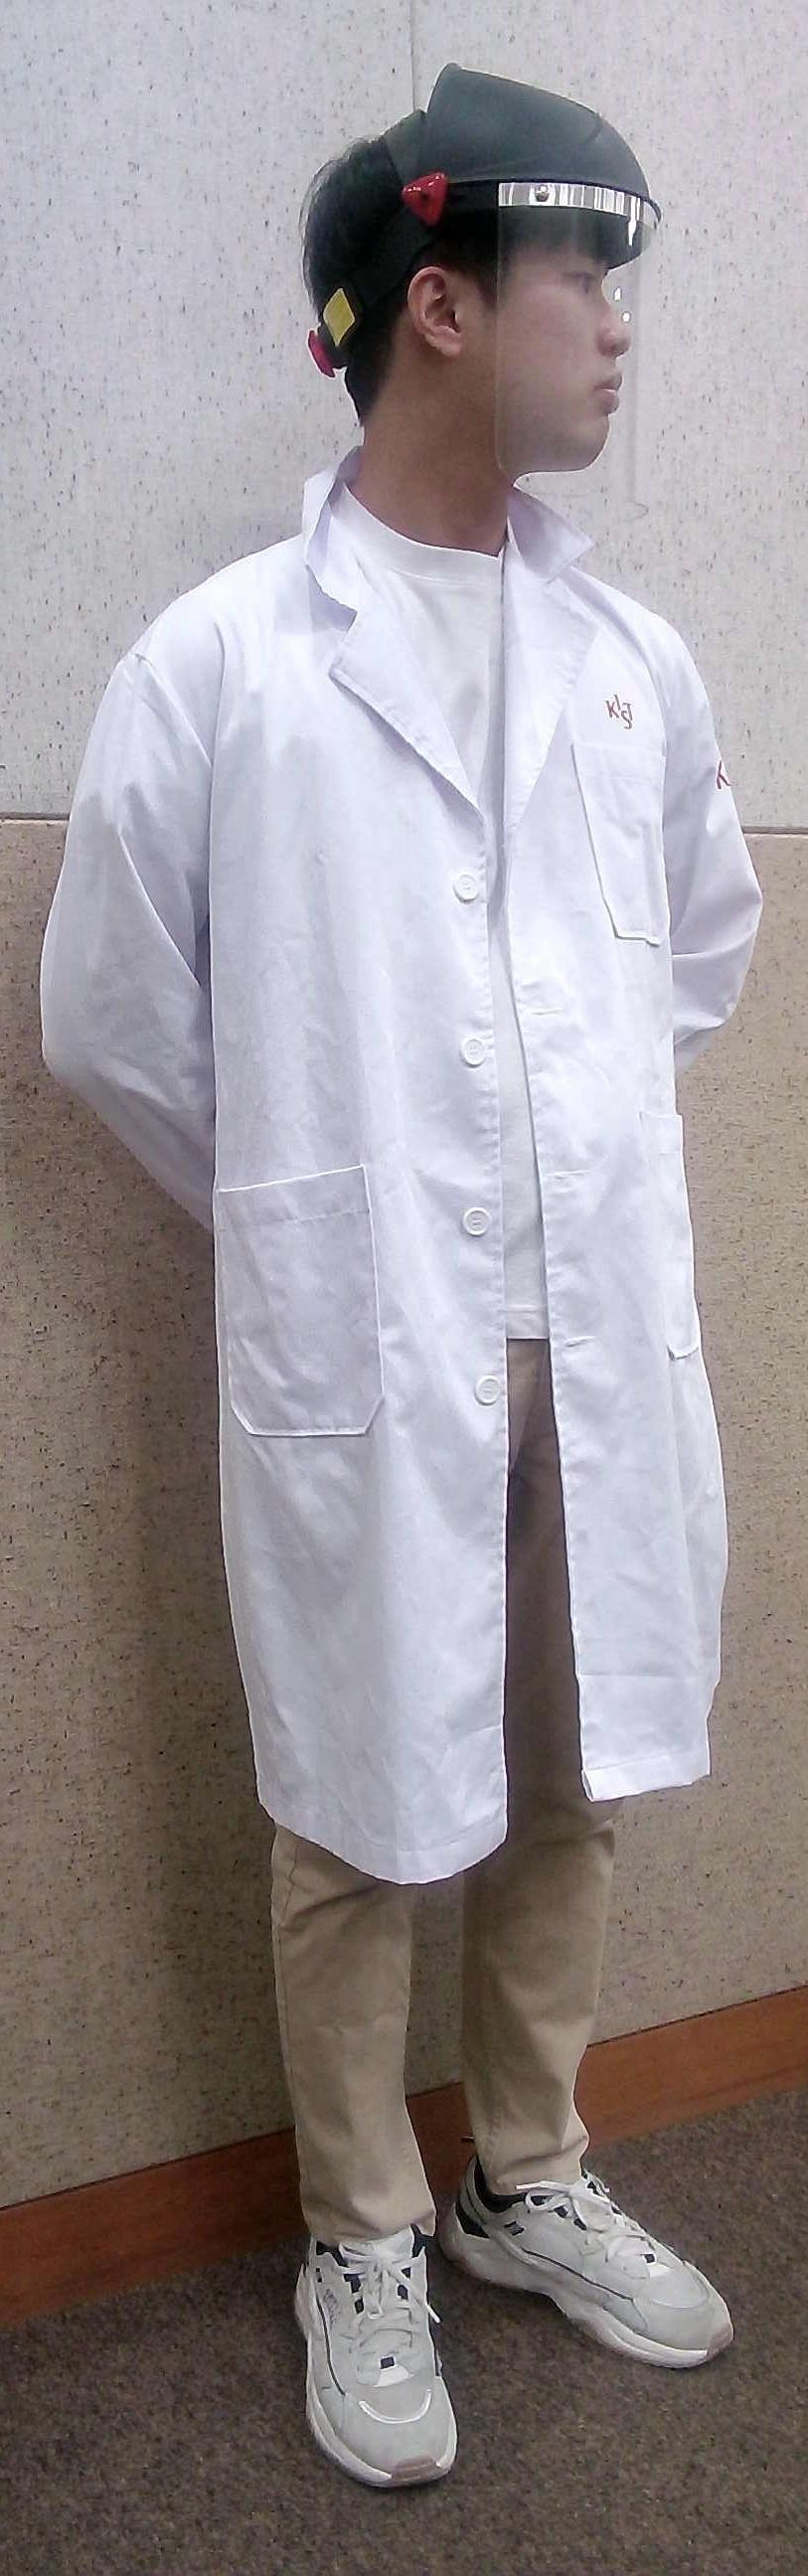lab_coat: (169, 478, 767, 1860)
